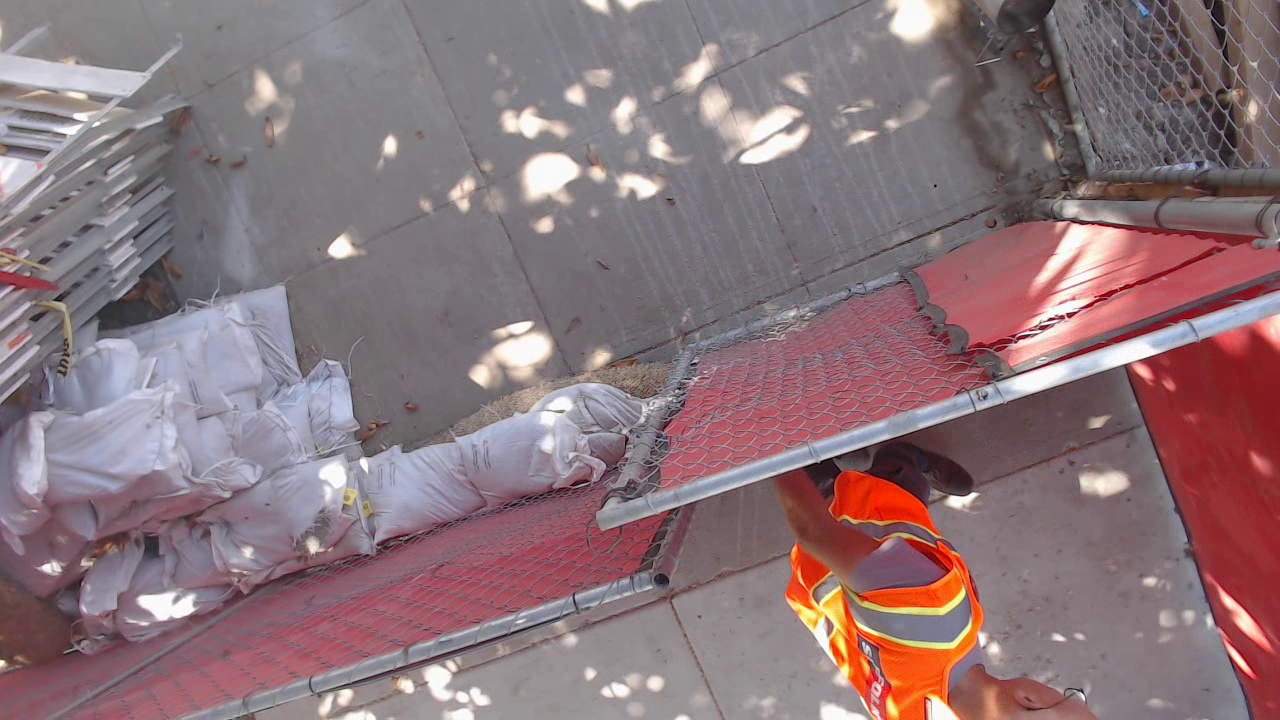person: (775, 482, 1101, 720)
safetyvest: (786, 468, 985, 718)
